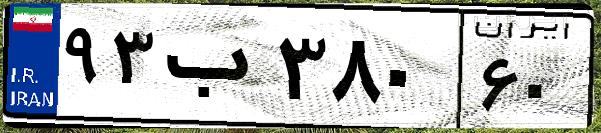0: (385, 28, 445, 110), (525, 38, 570, 115)
3: (270, 28, 330, 110), (110, 28, 158, 98)
6: (475, 38, 525, 113)
8: (330, 28, 385, 110)
9: (57, 26, 110, 100)
ب: (158, 20, 270, 120)
